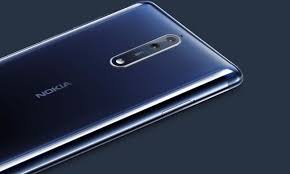nokia: (1, 1, 244, 174)
